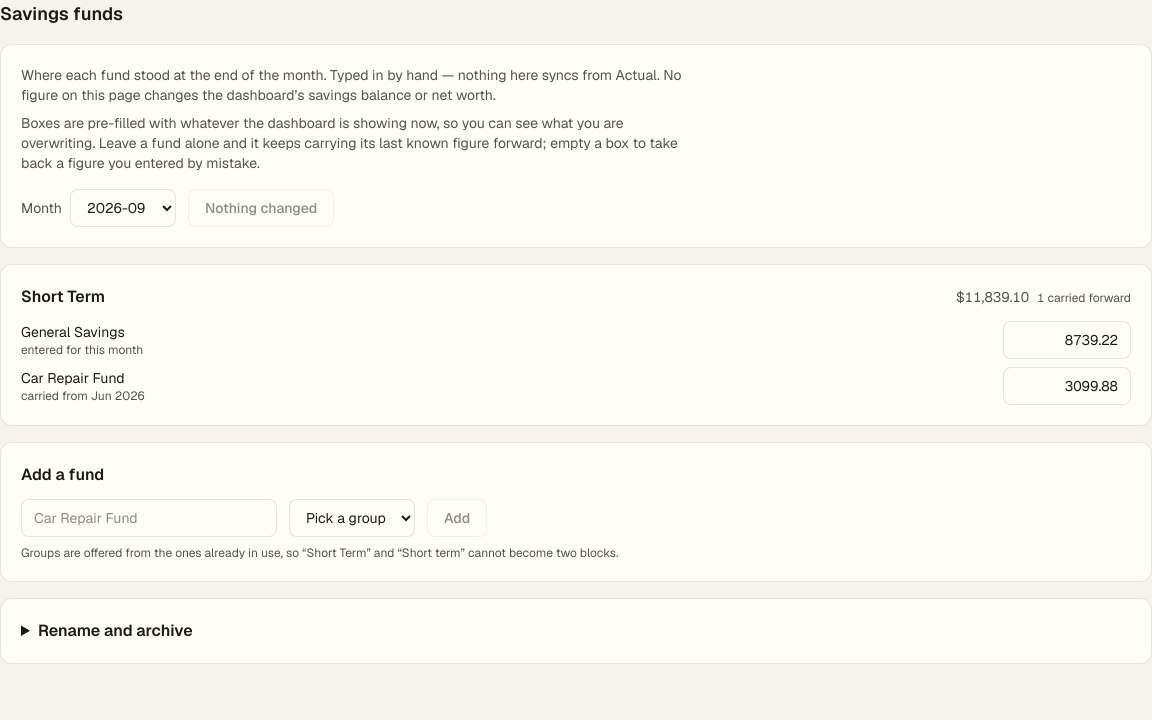
it: a rejected save says why instead of failing quietly
Replace the text in the field named "General Savings balance" with "99999999999" at (1067, 340), box [1003,321,1131,359]
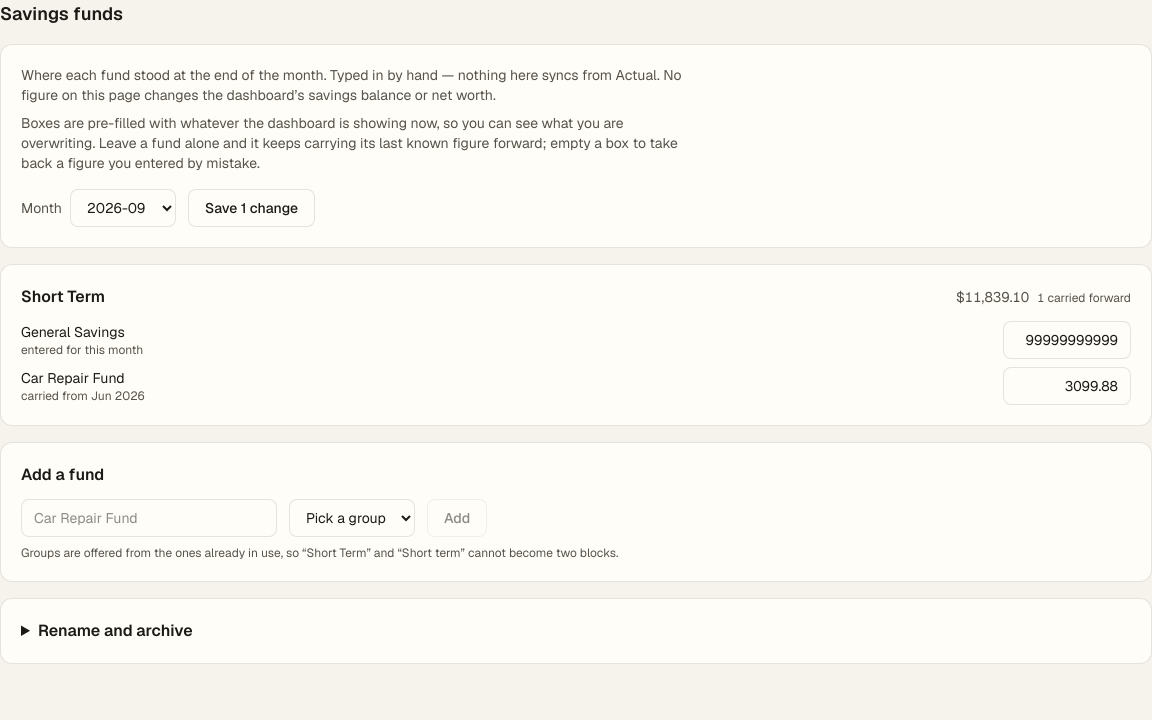
Click the button "Save 1 change" at (252, 208), box [188,189,315,227]
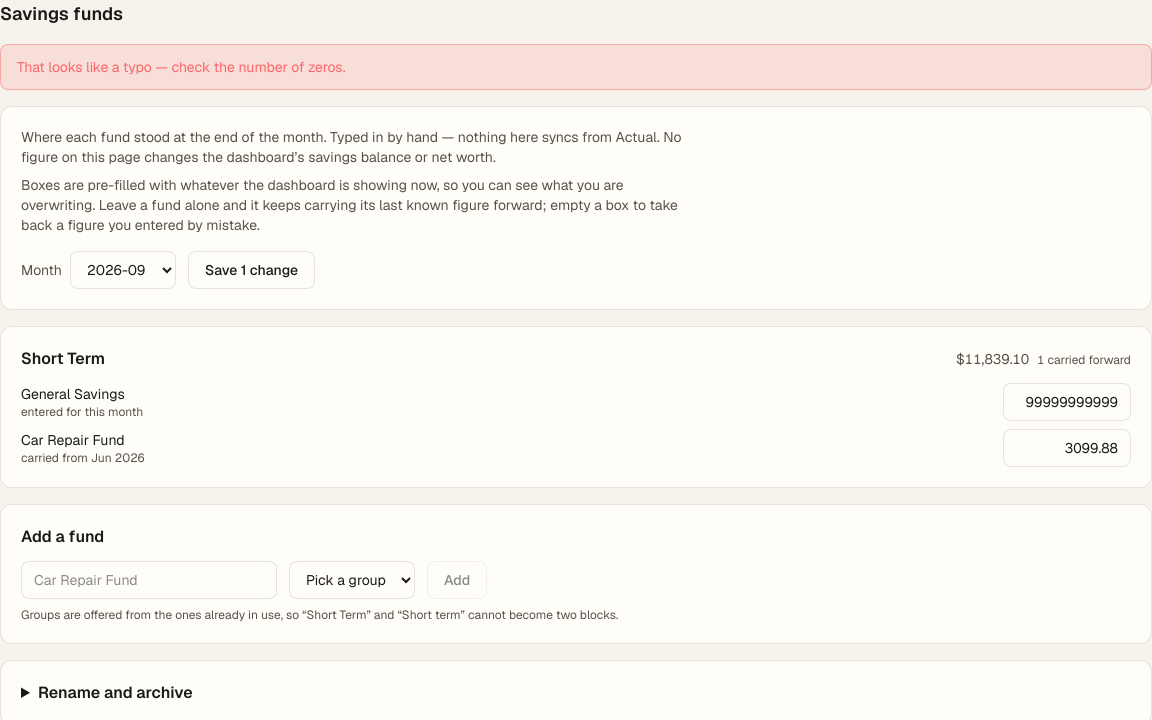
Now the text "That looks like a typo — check the number of zeros." is shown, box [0,44,1151,90]
